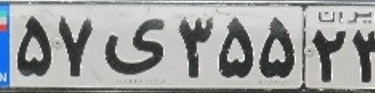character: (100, 10, 169, 79), (215, 10, 256, 83), (175, 9, 216, 81), (56, 9, 96, 82), (256, 11, 297, 82), (14, 14, 56, 80), (307, 26, 348, 86), (351, 26, 375, 86)
